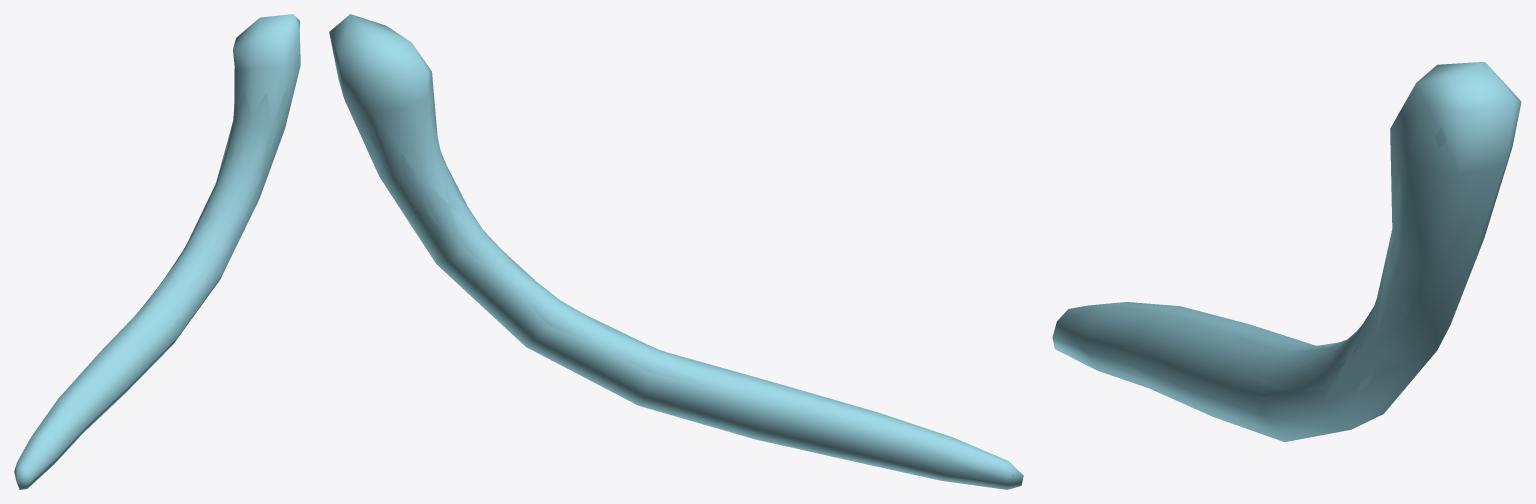
3 views of the same model, side by side, from view 1: azimuth 30°, elevation 25°; view 2: azimuth 150°, elevation 25°; view 3: azimuth 270°, elevation 25° (orthographic). The views are drawn at different scales.
Parts seen in each view (by area): view 1: CC L5 low, CC L5; view 2: CC L5 low, CC L5; view 3: CC L5 low, CC L5.
Part boxes in pixels (bbox=[...]): CC L5 low: bbox=[14, 14, 300, 489]; CC L5: bbox=[15, 87, 287, 481]; CC L5 low: bbox=[329, 14, 1023, 489]; CC L5: bbox=[367, 103, 1014, 483]; CC L5 low: bbox=[1052, 61, 1521, 441]; CC L5: bbox=[1071, 127, 1498, 400].
Size of the model in its own units: 2.3 by 1.79 by 1.21.
